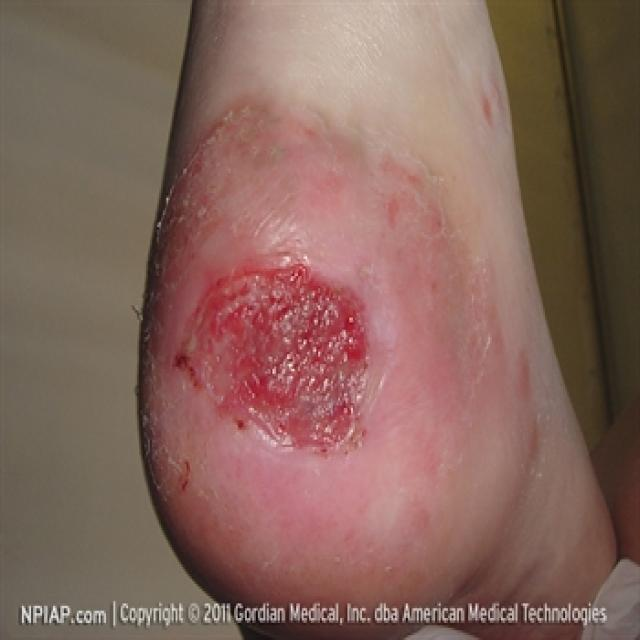stage-3: (173, 269, 364, 453)
